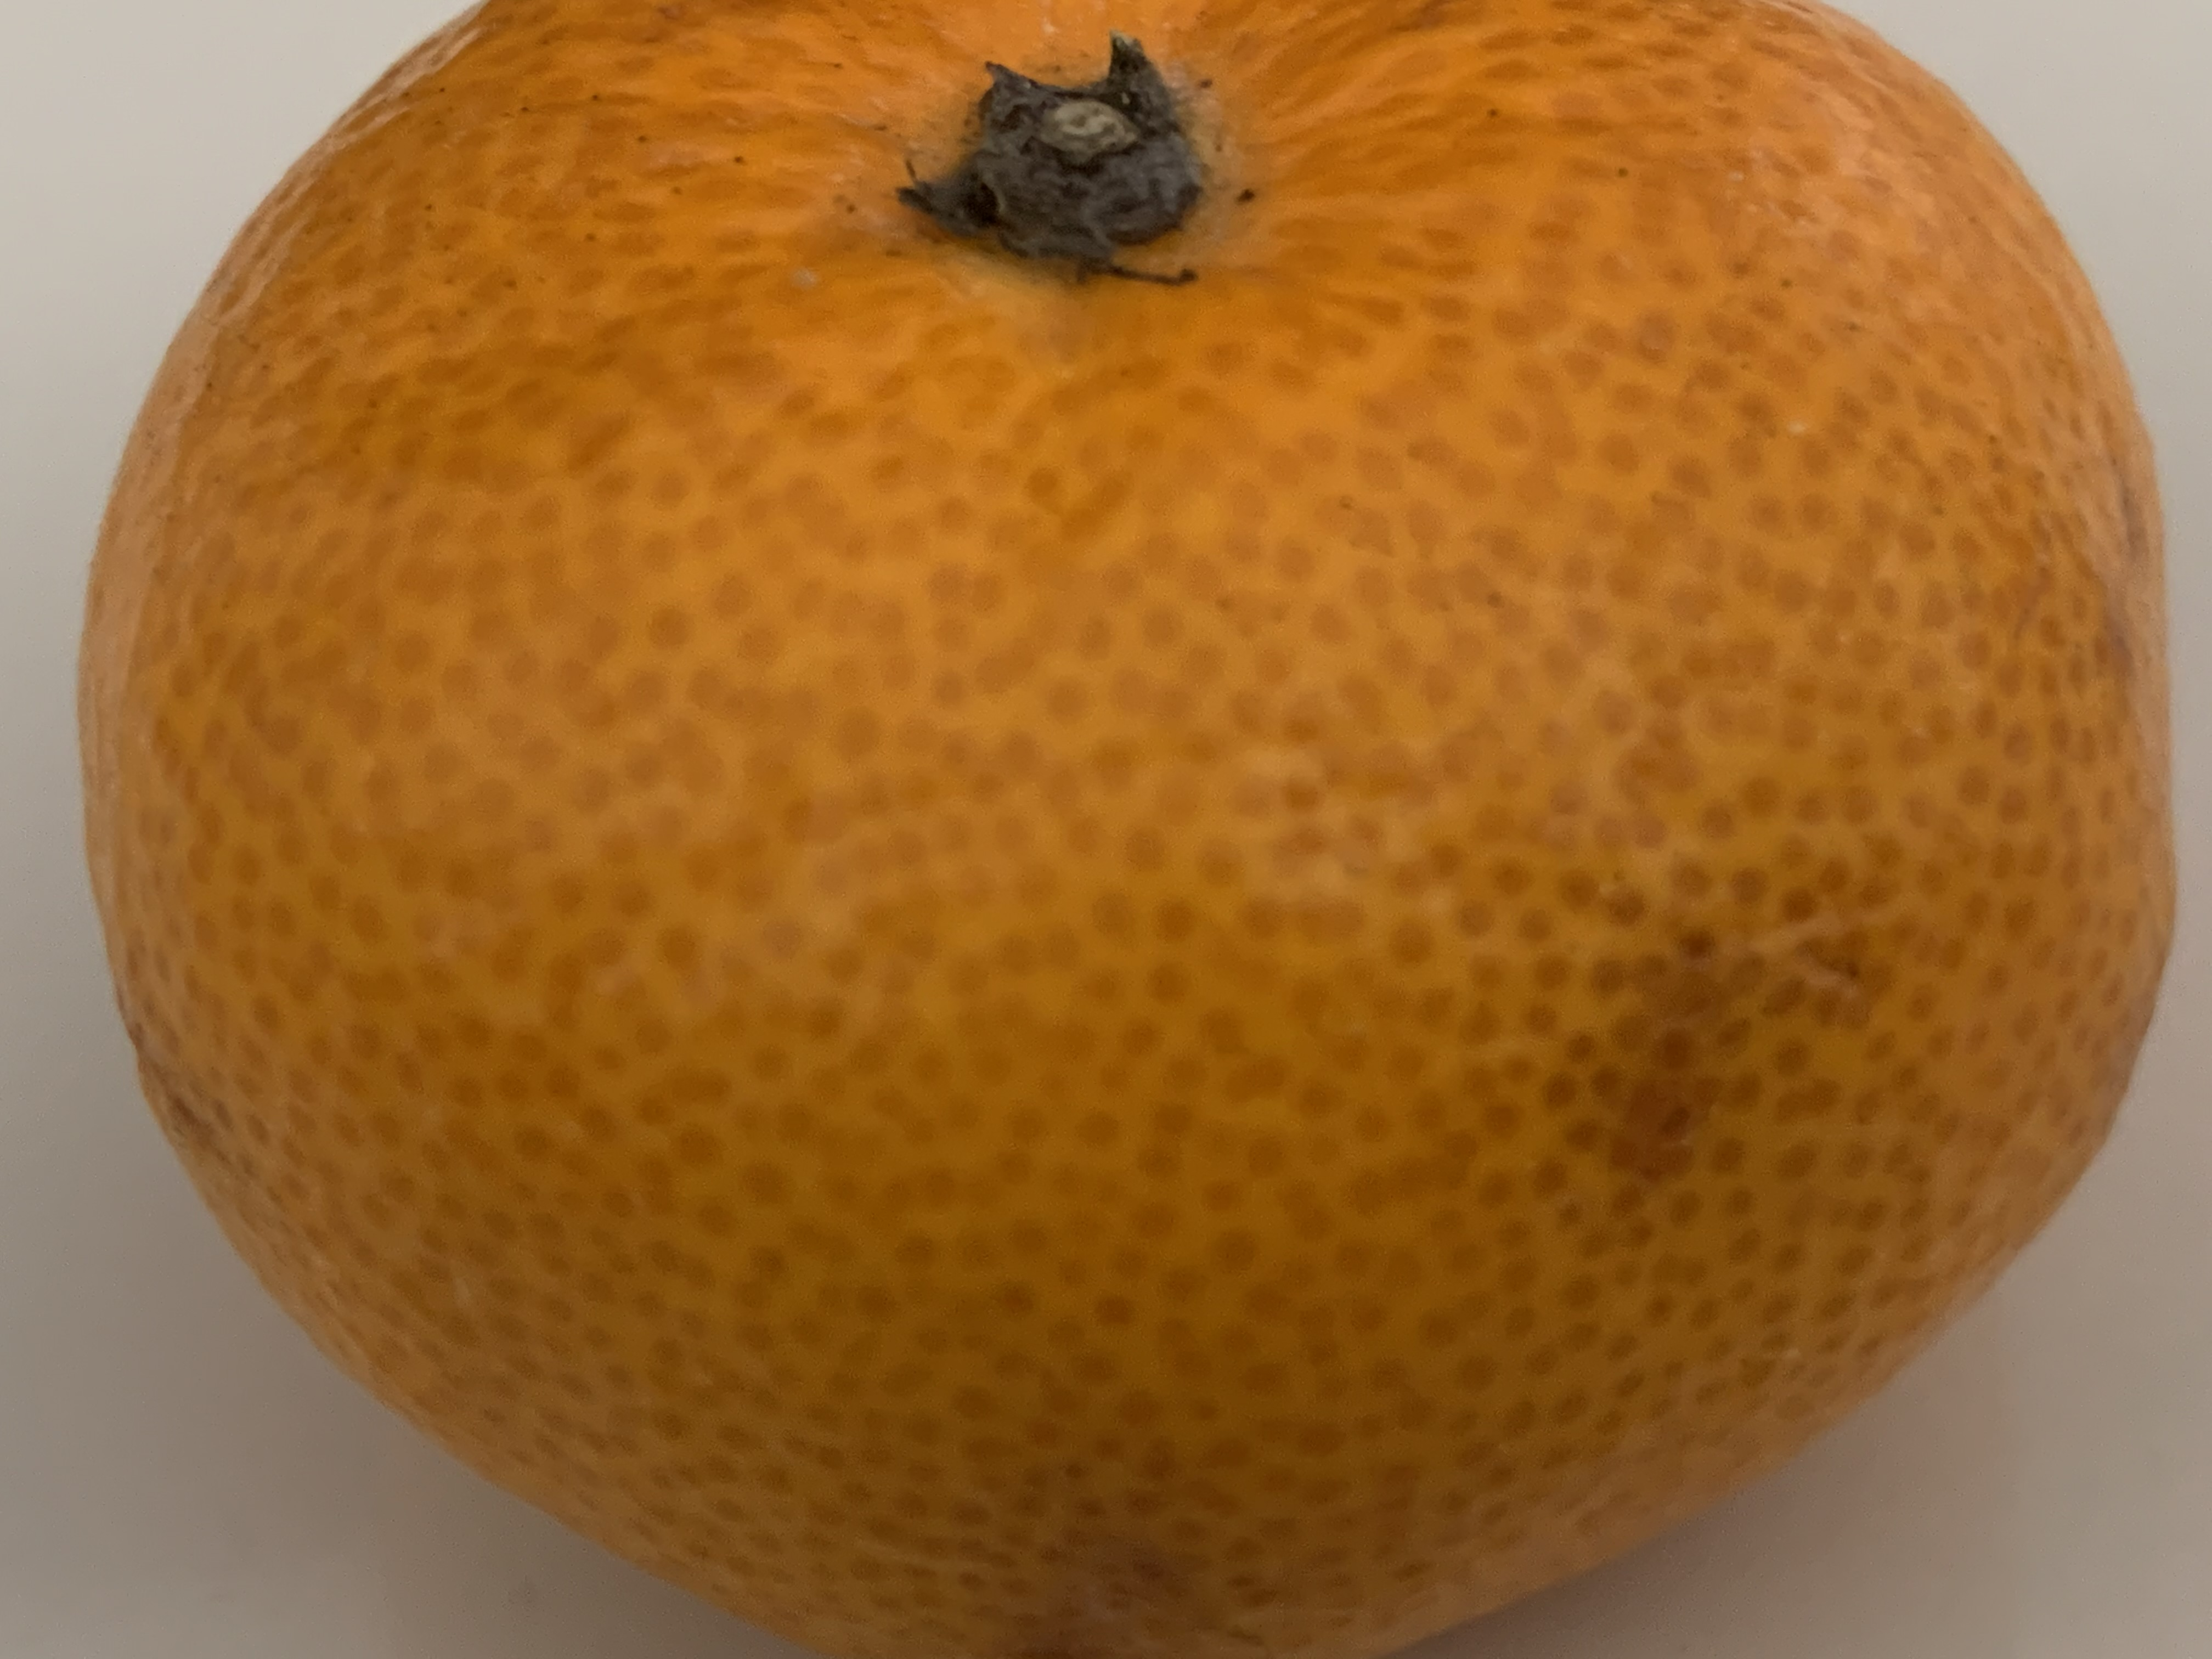orange: (80, 12, 2181, 1642)
